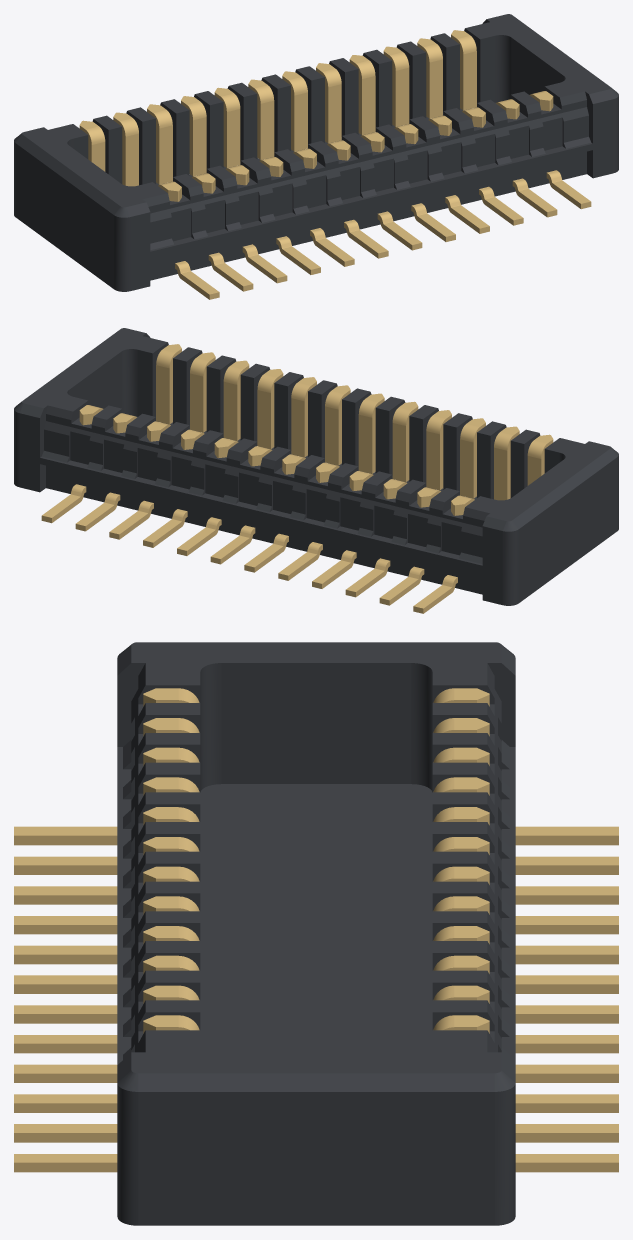
The model's file is kc-molex_slimstack_55560-0241_2x12_p0.50mm_vertical.glb.
The picture shows the model from 3 angles, top to bottom: view 1: azimuth 30°, elevation 25°; view 2: azimuth 150°, elevation 25°; view 3: azimuth 270°, elevation 25°; orthographic projection. The views are drawn at different scales.
Visible parts, largest first — view 1: 0.08333333333333333_0.08333333333333333_0.08333333333333333_, 0.75_0.5_0.25_0.9; view 2: 0.08333333333333333_0.08333333333333333_0.08333333333333333_, 0.75_0.5_0.25_0.9; view 3: 0.08333333333333333_0.08333333333333333_0.08333333333333333_, 0.75_0.5_0.25_0.9.
Part boxes in pixels (x1,y1,x2,y2): 0.08333333333333333_0.08333333333333333_0.08333333333333333_: (14, 14, 618, 291); 0.75_0.5_0.25_0.9: (79, 30, 591, 299); 0.08333333333333333_0.08333333333333333_0.08333333333333333_: (14, 328, 618, 605); 0.75_0.5_0.25_0.9: (41, 344, 553, 613); 0.08333333333333333_0.08333333333333333_0.08333333333333333_: (117, 642, 515, 1225); 0.75_0.5_0.25_0.9: (14, 688, 618, 1172).
Bounding box in the file's own units: 0.745 × 0.115 × 0.43.
